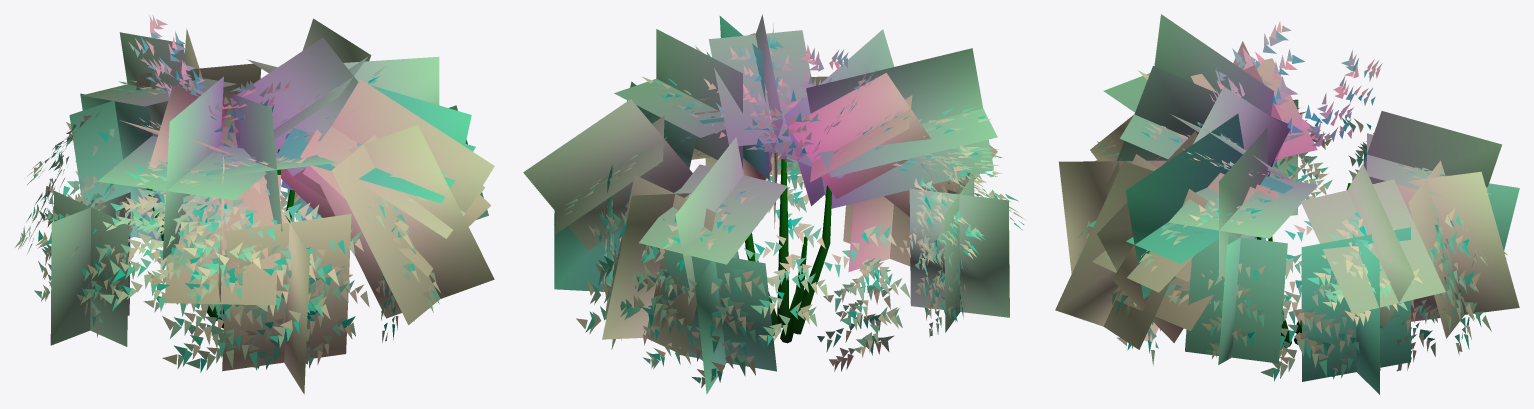
Rendered from scrub_3.glb.
3 views of the same model, side by side, from view 1: azimuth 30°, elevation 25°; view 2: azimuth 150°, elevation 25°; view 3: azimuth 270°, elevation 25° (orthographic). The views are drawn at different scales.
Visible parts, largest first — view 1: mid, near; view 2: mid, near; view 3: mid, near.
Boxes of the visible parts, x1,y1,x2,y2 form: mid: (50,18,494,394); near: (14,14,458,372); mid: (523,14,1009,394); near: (564,35,1024,388); mid: (1055,14,1519,394); near: (1077,21,1507,381).
Bounding box in the file's own units: 3.68 × 2.44 × 3.66.
